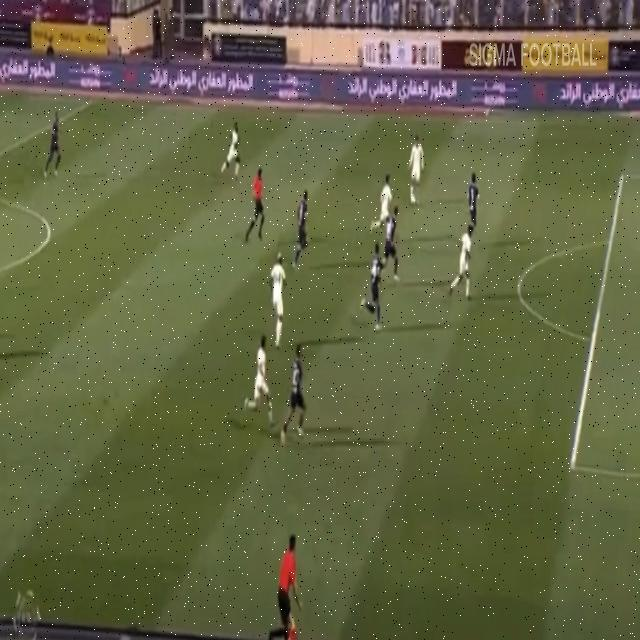player: (243, 321, 278, 437), (285, 339, 312, 455), (267, 252, 295, 351), (451, 226, 477, 316), (460, 150, 484, 241), (406, 128, 430, 218), (366, 245, 386, 351), (43, 94, 67, 181), (373, 159, 396, 247), (385, 204, 406, 287), (224, 116, 241, 197), (292, 180, 312, 248)
referee: (244, 170, 269, 253)
